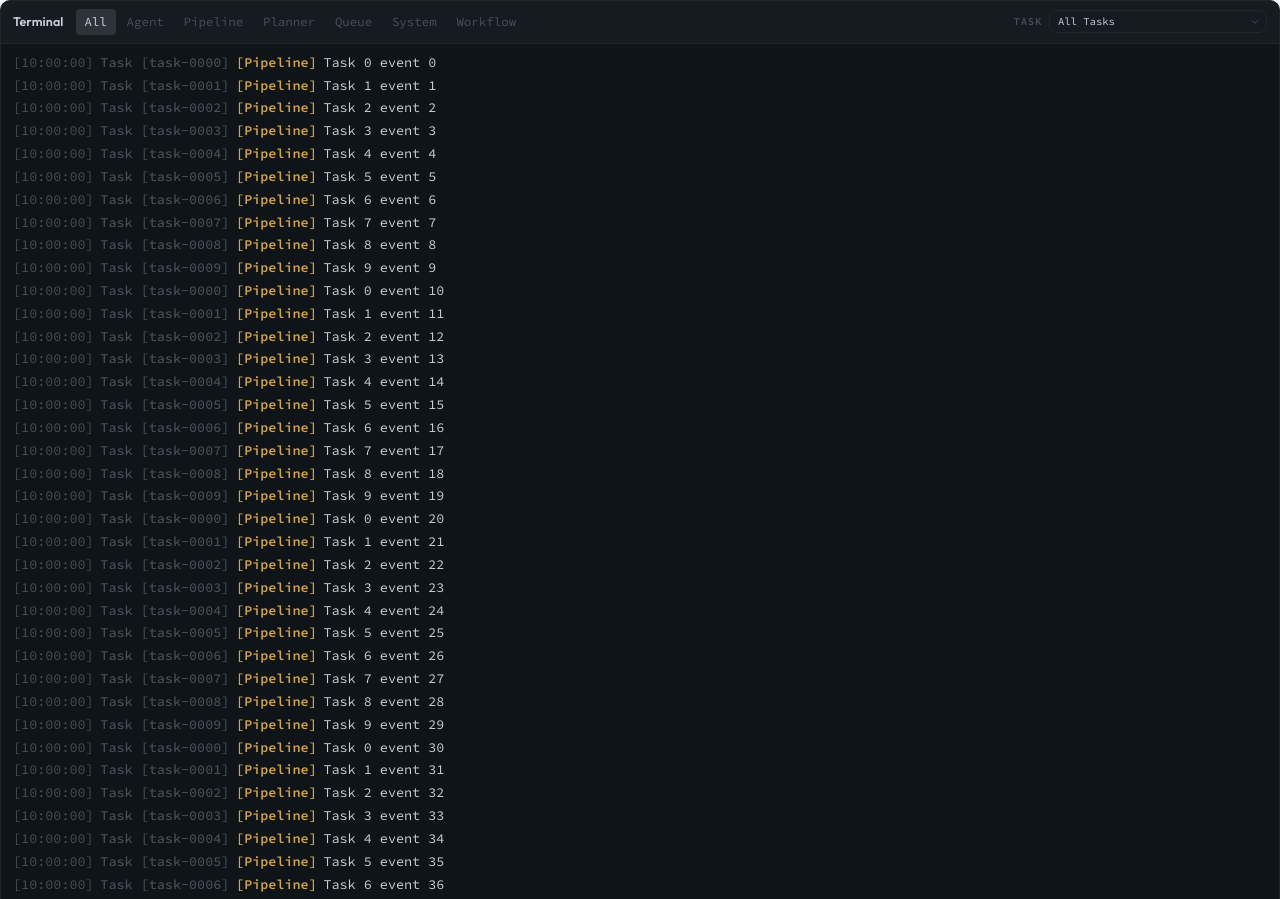
Test: TerminalFeed 10-task scope and replay coverage › all 10 task scope options are present in the component output for scope selection
Click the button with aria-label "Terminal task scope": [1158, 22] box [1049,10,1267,34]
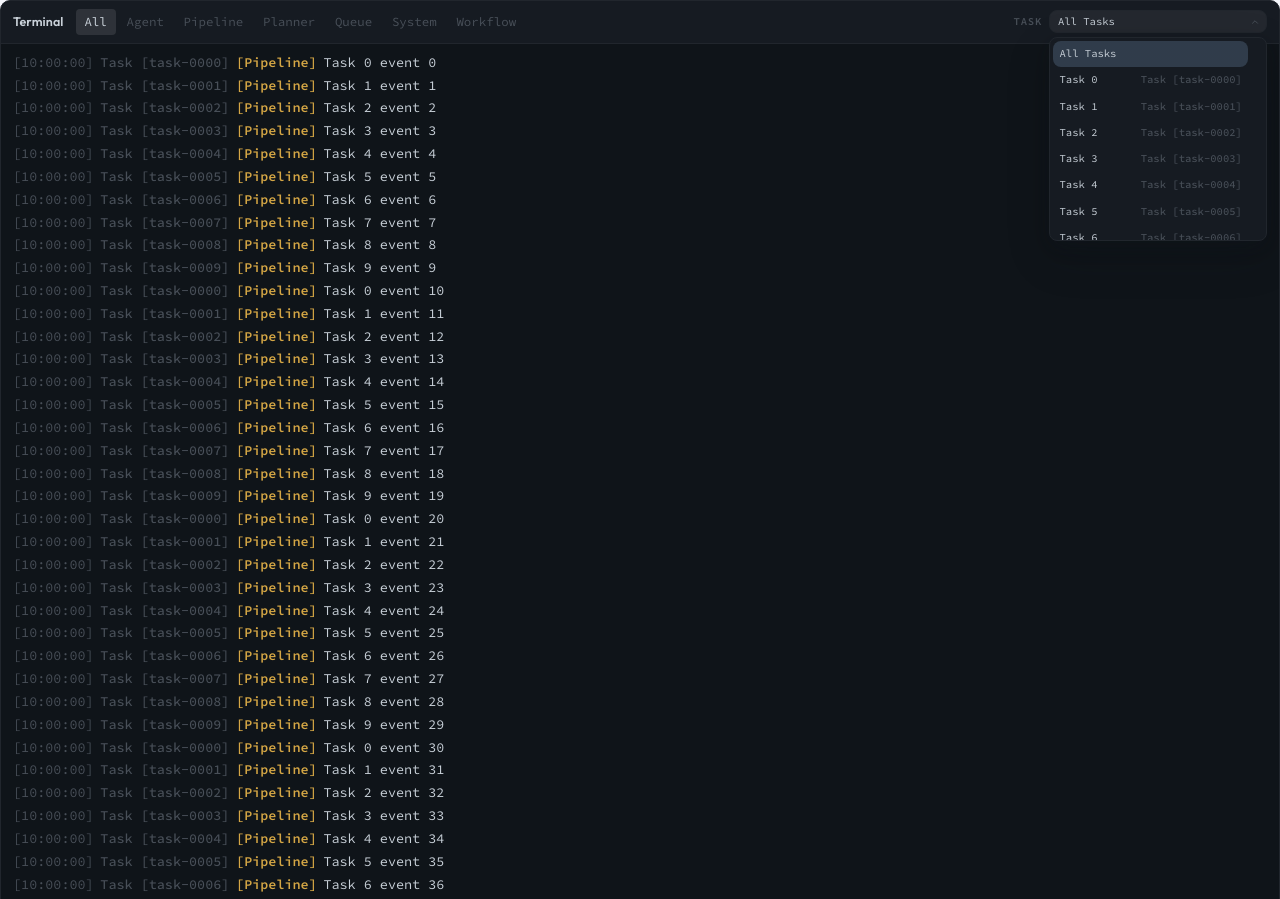
Expected: the text "Task 1" is shown, [1060,98,1098,115]
